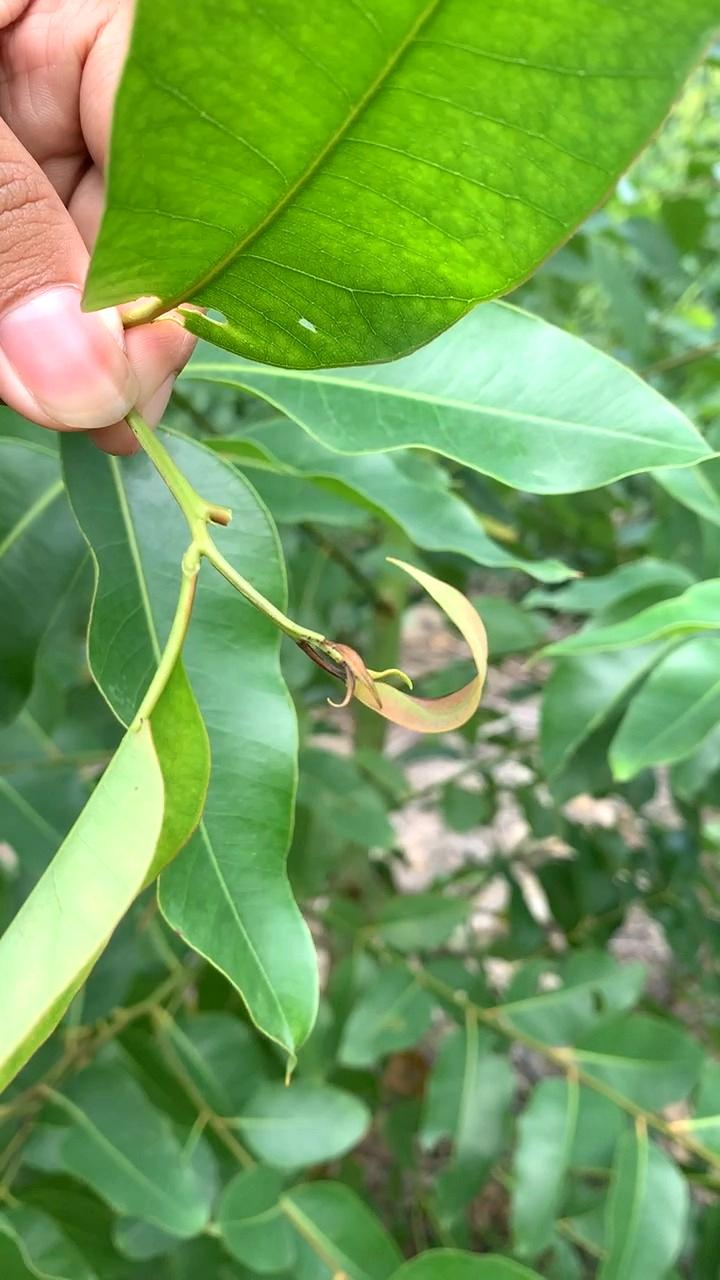Helopeltis-Withered Sprout: (320, 558, 491, 741)
